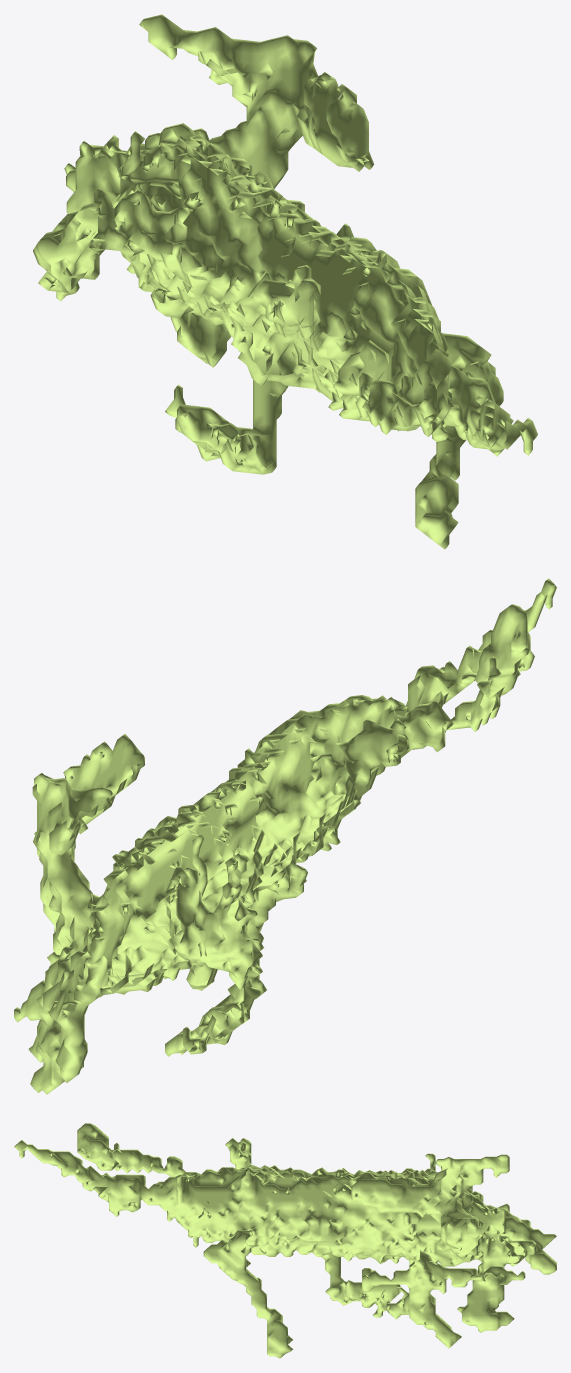
File: osteocyte_68.glb
The picture shows the model from 3 angles, top to bottom: view 1: azimuth 30°, elevation 25°; view 2: azimuth 150°, elevation 25°; view 3: azimuth 270°, elevation 25°; orthographic projection. The views are drawn at different scales.
Parts seen in each view (by area): view 1: osteocyte_68; view 2: osteocyte_68; view 3: osteocyte_68.
Boxes of the visible parts, x1,y1,x2,y2 form: osteocyte_68: (33,14,537,549); osteocyte_68: (14,578,556,1094); osteocyte_68: (14,1123,556,1358).
Size of the model in its own units: 14.44 by 18.78 by 49.59.
